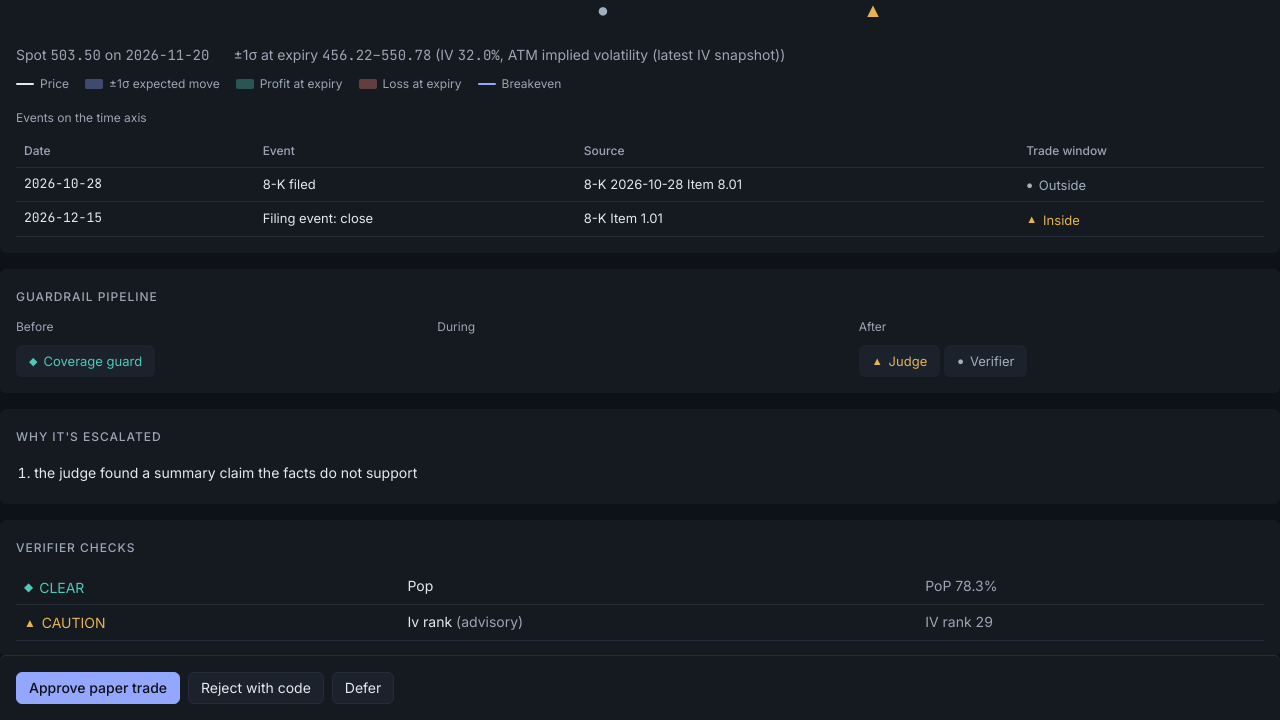
Scenario: Review › the guardrail strip shows a shape per decision and the reason on click
(page scrolled)
Click the button "▲ Judge": (900, 361) [859, 345, 940, 377]
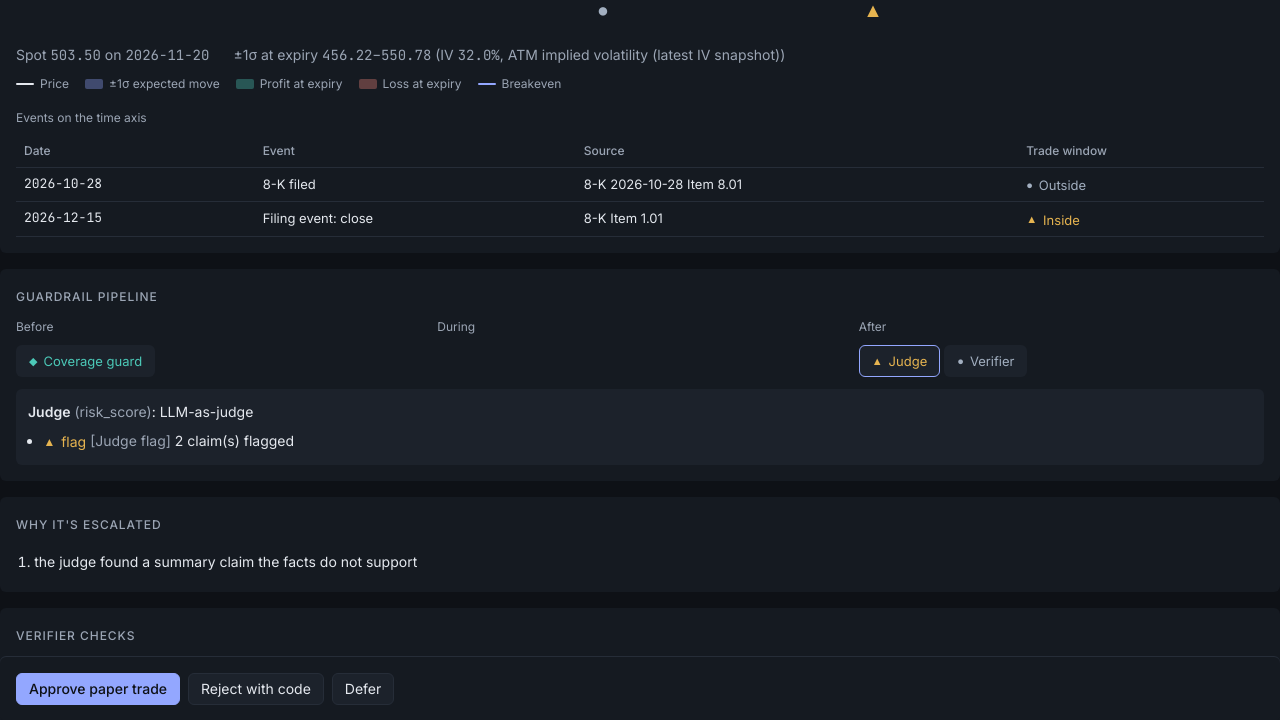
Result: the element named "Judge details" shows "2 claim(s) flagged" at [175, 432, 294, 449]
